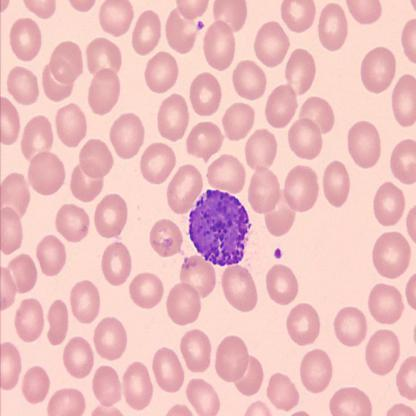Basophil: (187, 186, 251, 268)
